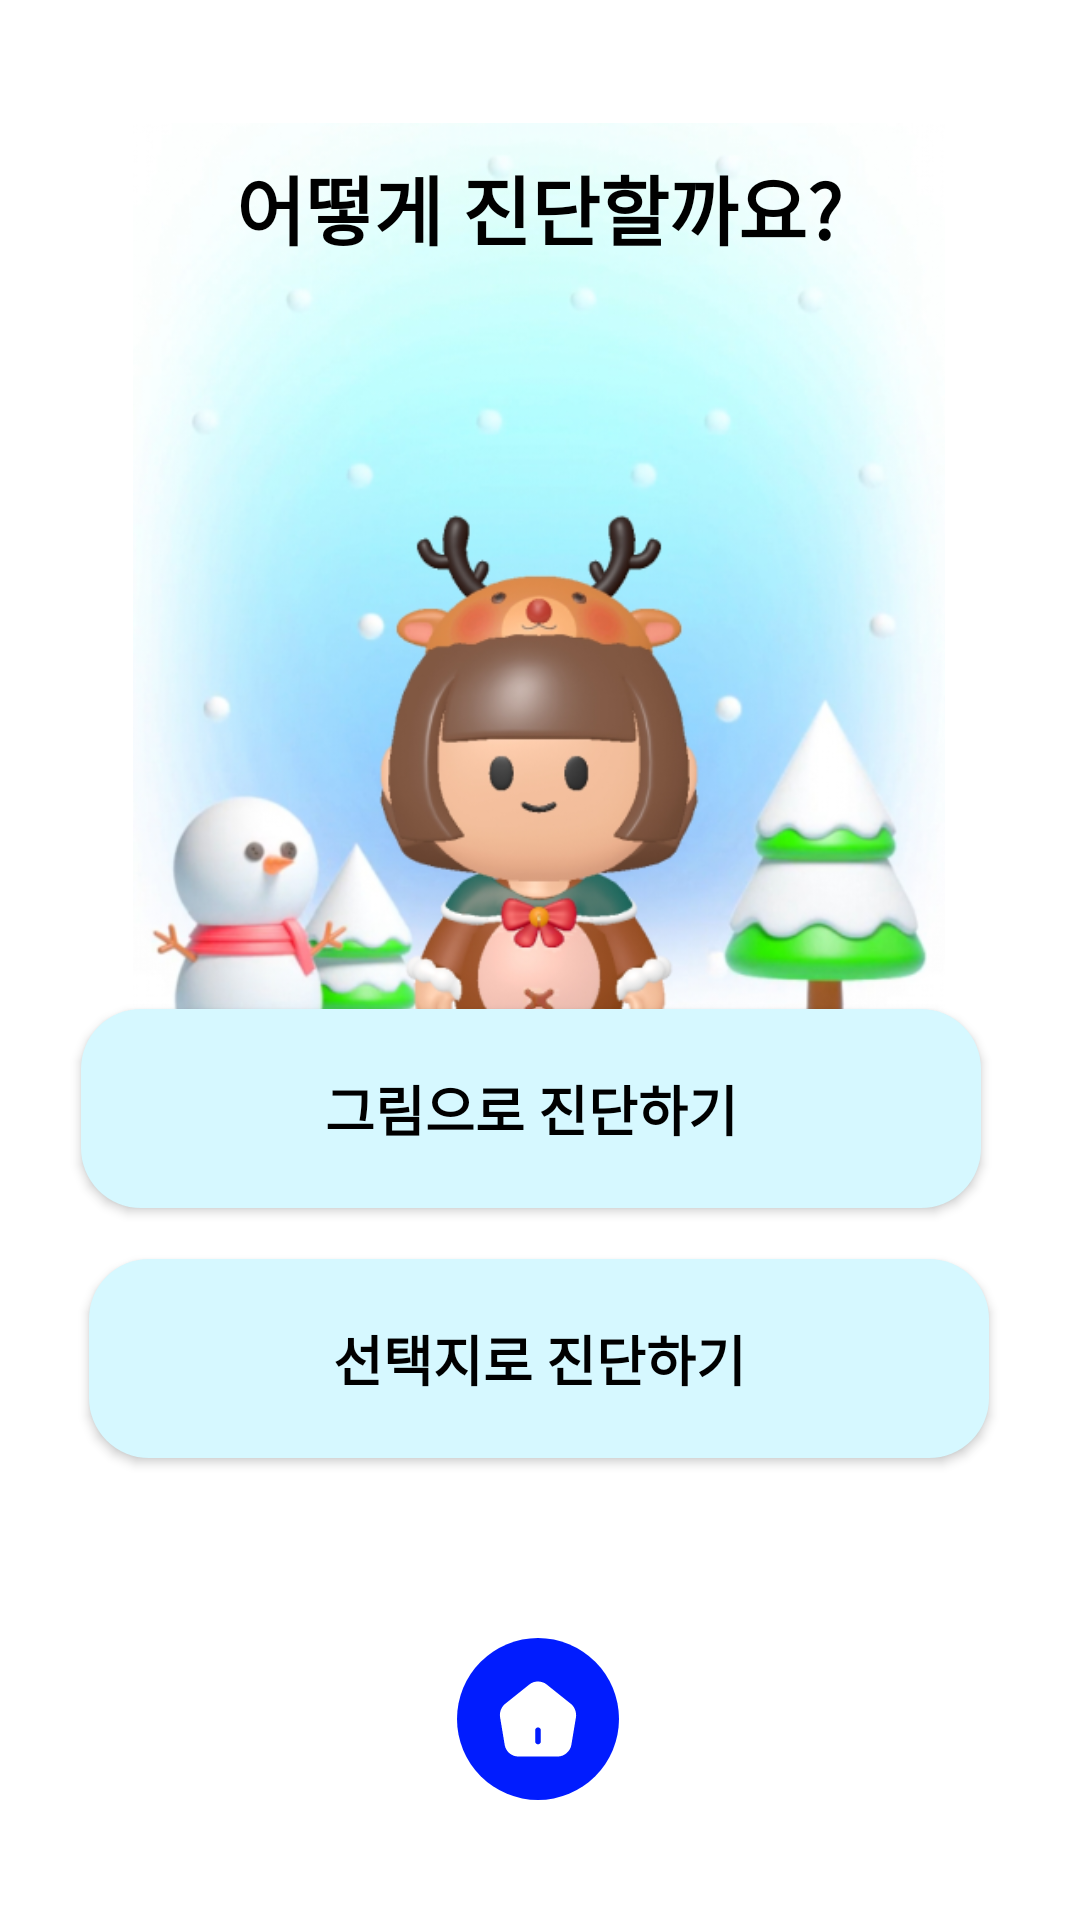

Named icons in this screenshot (1080×1920) and their centers, point (x, y):
home: point (538, 1719)
